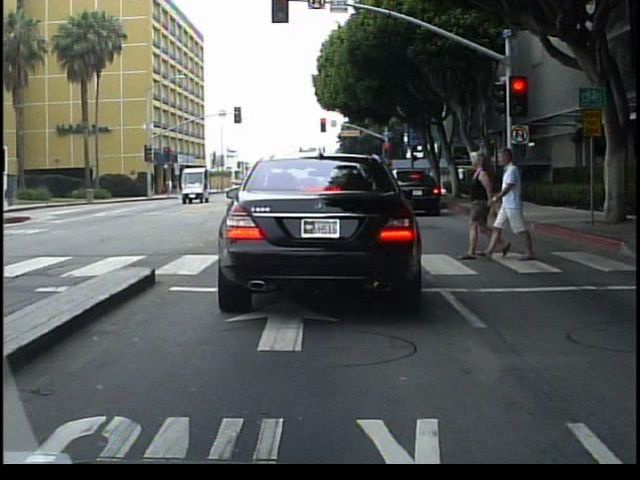person: (492, 139, 535, 262), (459, 147, 503, 261)
